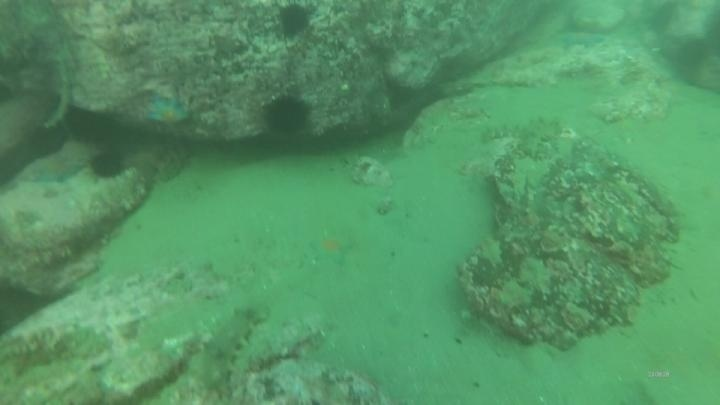echinus: (260, 92, 313, 138), (24, 121, 70, 160), (273, 2, 316, 40), (86, 146, 129, 182)
holothurian: (186, 302, 268, 400), (477, 113, 567, 147)
starfish: (28, 152, 87, 187), (307, 229, 356, 268), (142, 92, 193, 129), (556, 28, 608, 53)
